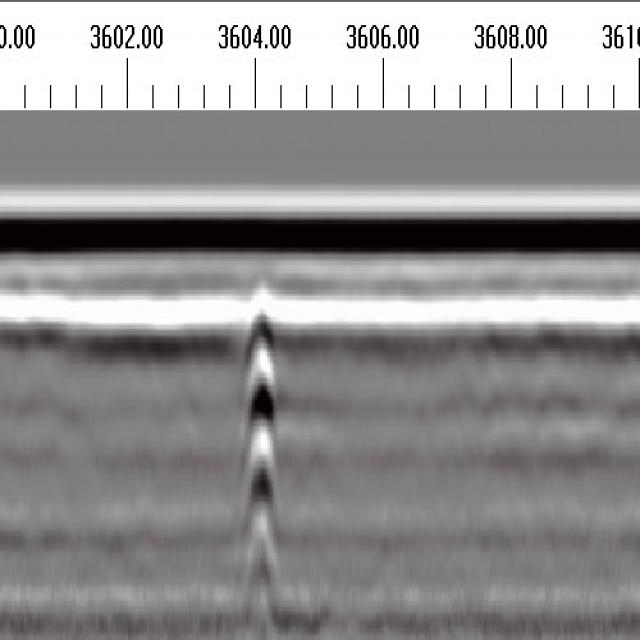crack: (243, 279, 277, 591)
